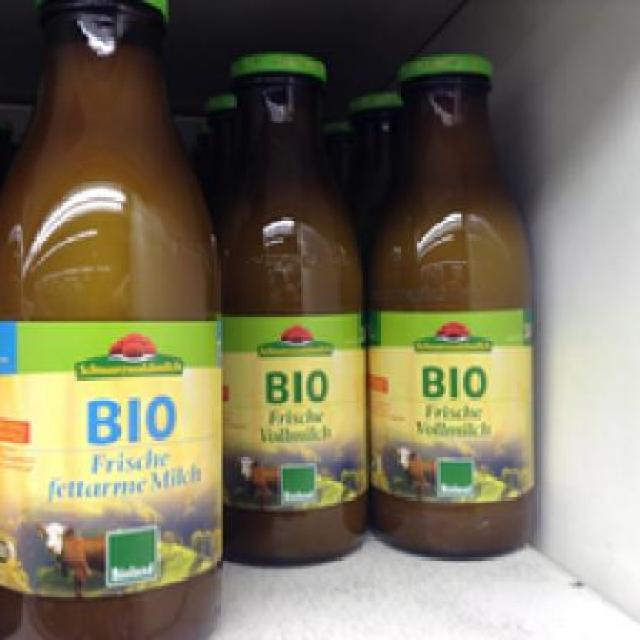Milk: (0, 0, 226, 637), (363, 49, 543, 572), (219, 48, 372, 566)
